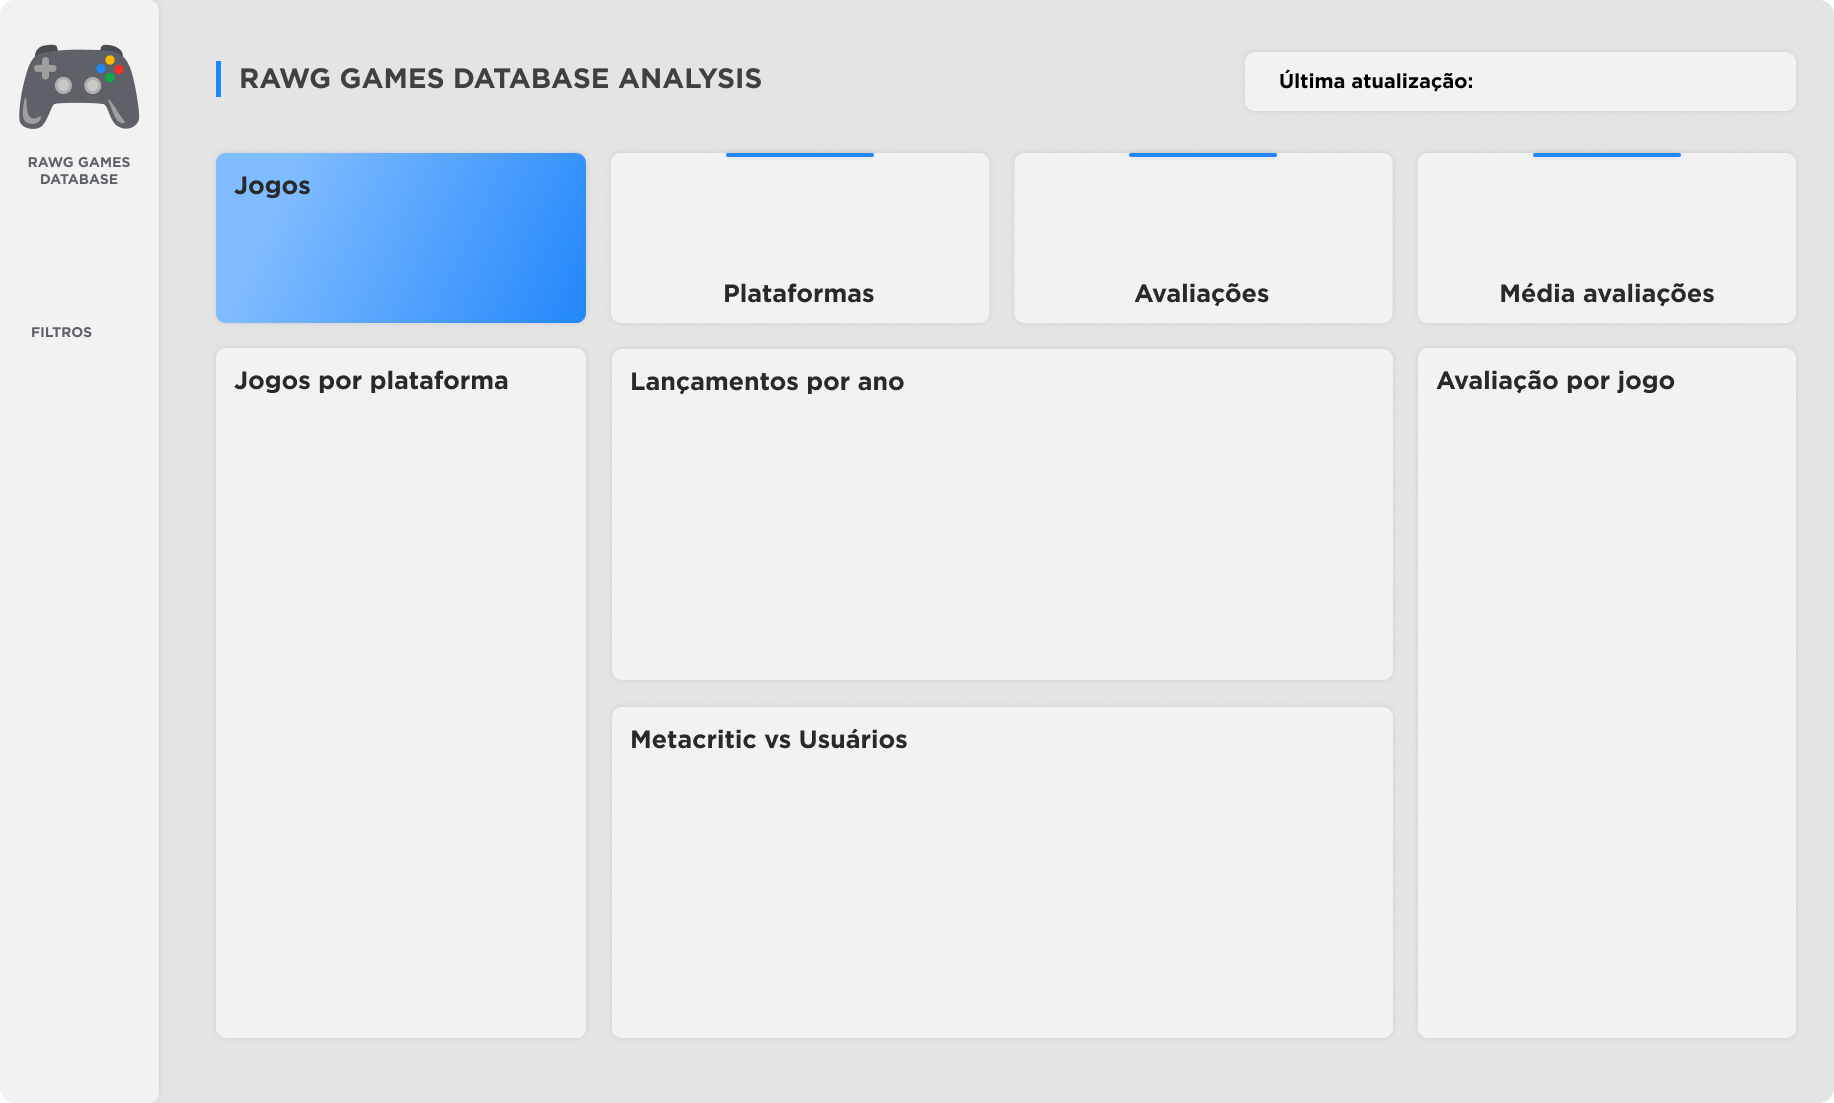

Layout of this report page (visuals, bound fields, positions):
{"tool":"powerbi","page":{"name":"Página 1","canvas":[1834,1103],"ordinal":0},"visuals":[{"type":"card","fields":{"Values":["fGame Database.Total Jogos"]},"box":[220.2,149.1,363.7,175.6],"z":0},{"type":"card","fields":{"Values":["fGame Database.Média de avaliações"]},"box":[1415.9,149.1,380.5,146.3],"z":1000},{"type":"card","fields":{"Values":["fGame Database.Total Avaliações"]},"box":[1011.8,149.1,386,146.3],"z":2000},{"type":"clusteredColumnChart","fields":{"Y":["fGameDatabase.Total jogos"],"Category":["fGameDatabase.ano_lancamento"]},"box":[613.2,397.2,770.7,277.3],"z":3000},{"type":"clusteredBarChart","fields":{"Category":["fPlataformas.Personalizar"],"Y":["CountNonNull(fPlataformas.id)"]},"box":[218.7,403,364.5,634],"z":4000},{"type":"scatterChart","fields":{"X":["fGameDatabase.nota_metacritic"],"Y":["fGameDatabase.avaliacao"]},"box":[611.8,752.6,784.6,284.3],"z":5000},{"type":"clusteredBarChart","fields":{"Category":["fGameDatabase.nome_jogo"],"Y":["Sum(fGameDatabase.avaliacao)"]},"box":[1415.9,379.1,380.5,657.8],"z":7000},{"type":"card","fields":{"Values":["fGameDatabase.Total plataformas"]},"box":[613.2,149.1,376.3,146.3],"z":8000},{"type":"slicer","fields":{"Values":["Plataformas.nome_plataforma"]},"box":[0,346.6,155.4,569.4],"z":8001}]}

Visuals, with their boxes on the page's 1834x1103 design canvas (x1, y1, x2, y2). These are canvas units, not pixel positions in the 1834x1103 screenshot, which may show the page scaled, cropped or inside an application window:
card - fGame Database.Total Jogos: crop(220, 149, 584, 325)
card - fGame Database.Média de avaliações: crop(1416, 149, 1796, 295)
card - fGame Database.Total Avaliações: crop(1012, 149, 1398, 295)
clusteredColumnChart - fGameDatabase.Total jogos x fGameDatabase.ano_lancamento: crop(613, 397, 1384, 674)
clusteredBarChart - fPlataformas.Personalizar x CountNonNull(fPlataformas.id): crop(219, 403, 583, 1037)
scatterChart - fGameDatabase.nota_metacritic x fGameDatabase.avaliacao: crop(612, 753, 1396, 1037)
clusteredBarChart - fGameDatabase.nome_jogo x Sum(fGameDatabase.avaliacao): crop(1416, 379, 1796, 1037)
card - fGameDatabase.Total plataformas: crop(613, 149, 990, 295)
slicer - Plataformas.nome_plataforma: crop(0, 347, 155, 916)
